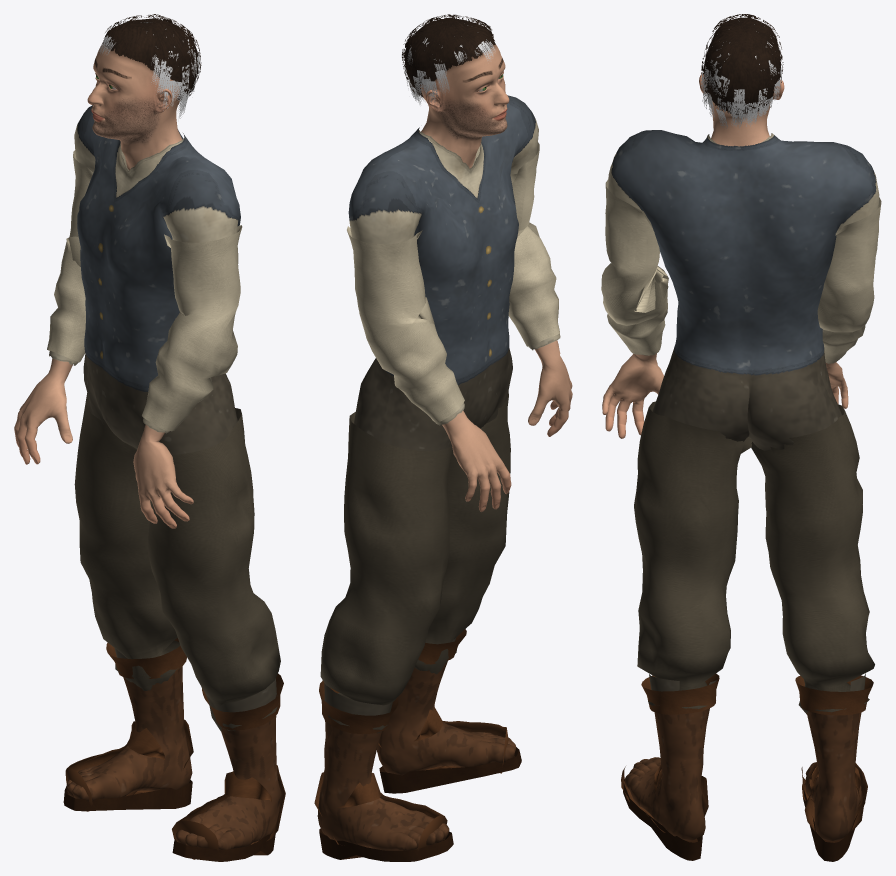
Rendered from SM_Art_Person_ethan.gltf.
3 renders of one model, left to right at view 1: azimuth 30°, elevation 25°; view 2: azimuth 150°, elevation 25°; view 3: azimuth 270°, elevation 25°, orthographic. The views are drawn at different scales.
Visible parts, largest first — view 1: SM_Art_Person_ethan; view 2: SM_Art_Person_ethan; view 3: SM_Art_Person_ethan.
Part boxes in pixels (x1,y1,x2,y2): SM_Art_Person_ethan: (14,14,285,861); SM_Art_Person_ethan: (314,14,572,861); SM_Art_Person_ethan: (601,14,881,861).
Size of the model in its own units: 0.4573 by 1.87 by 0.5952.
Materials: 15 (15 with a texture image).
